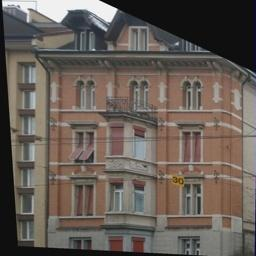building: (42, 8, 243, 253)
